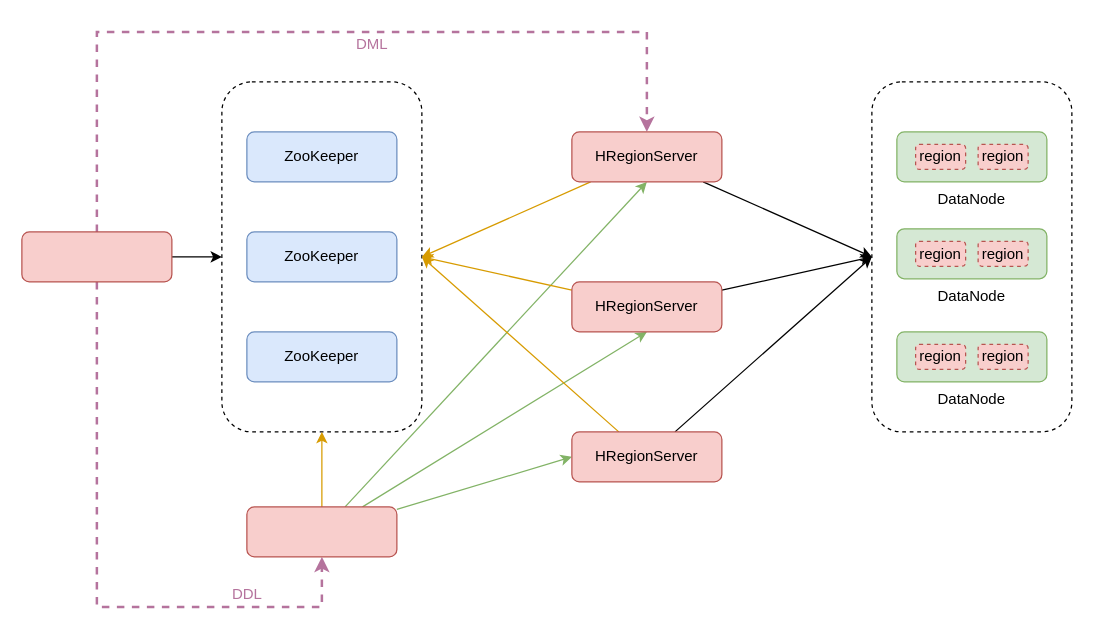
Image size: 1094x639. Some labels were removed from this diagram. The box of each missing label's shape, as (x1, y1, x2, y2) in pixels:
Client: (21, 231, 172, 282)
HMaster: (246, 506, 397, 557)
